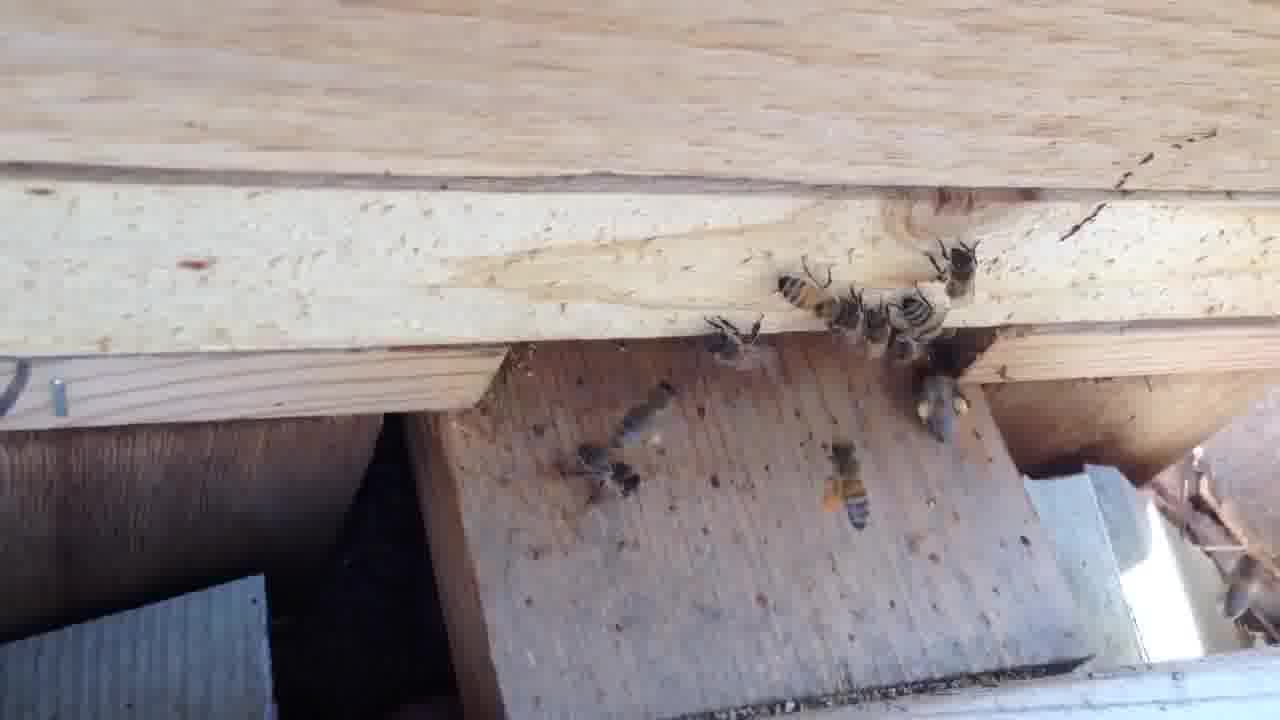pollen: (815, 435, 878, 539), (911, 361, 974, 454)
